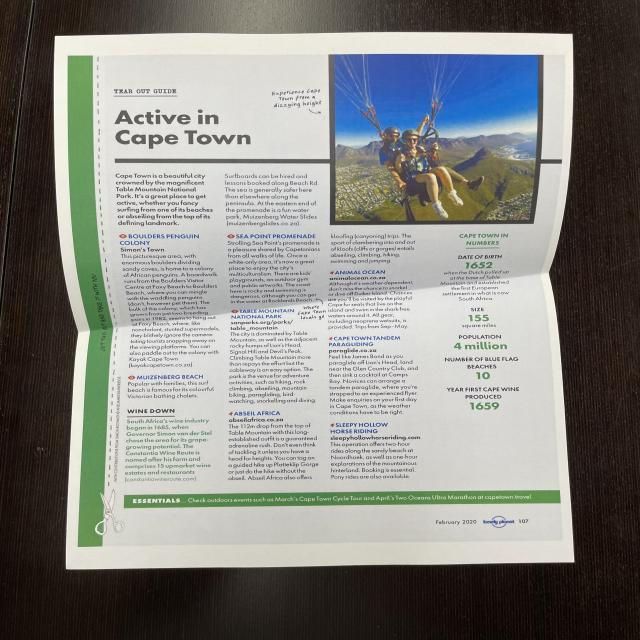document: (55, 32, 573, 569)
